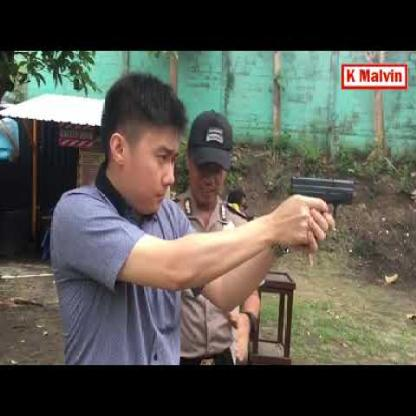handgun: (292, 175, 354, 223)
